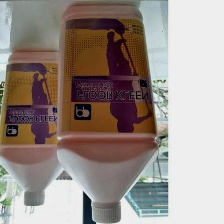cleaning_solution: (53, 1, 160, 224), (0, 46, 71, 209)
